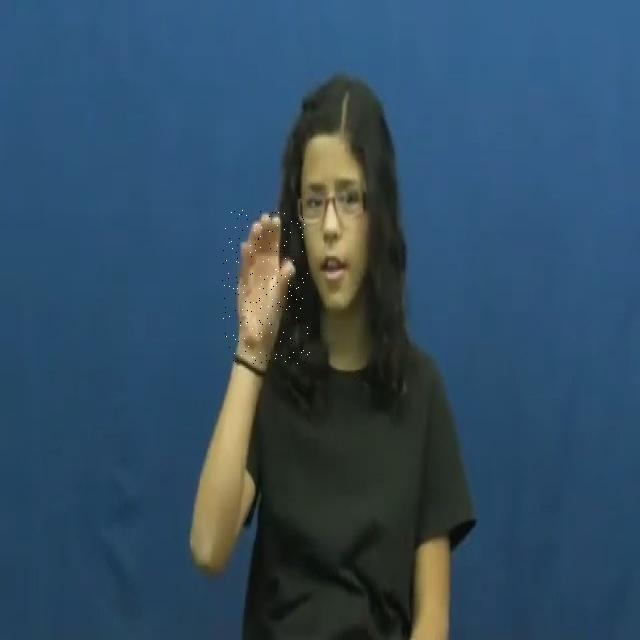yoghurt: (222, 210, 310, 364)
